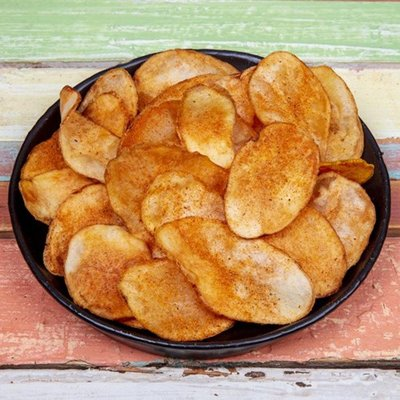sushi: (6, 40, 361, 360)
